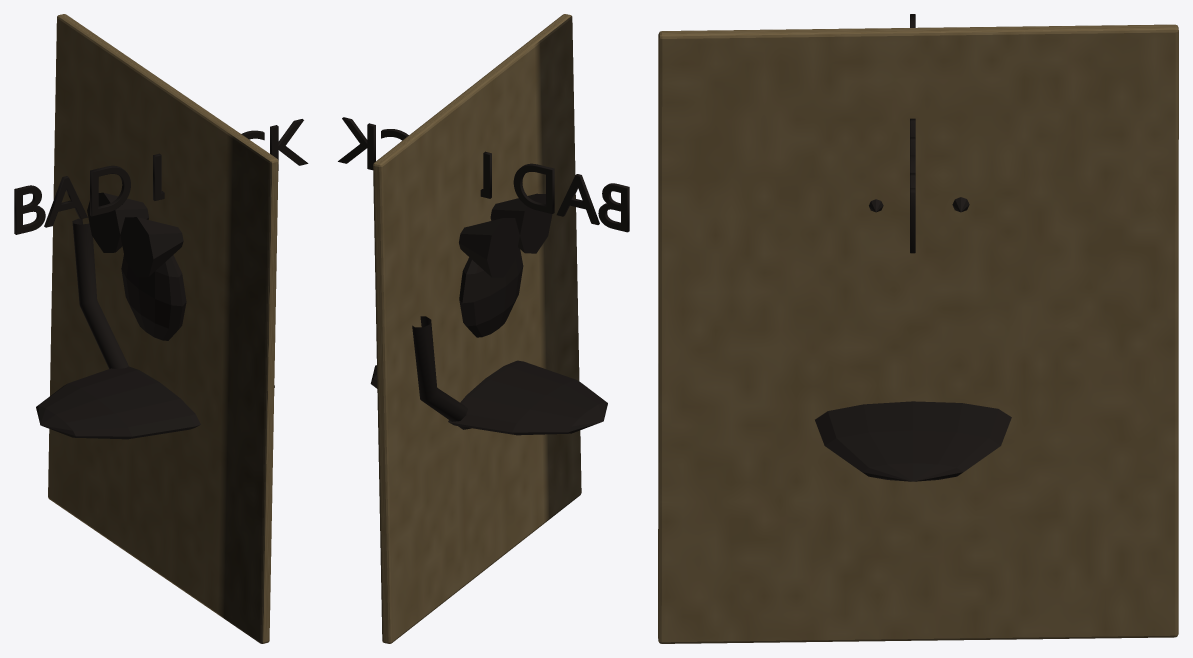
The model's file is basement-bad-luck-poster.glb.
3 views of the same model, side by side, from view 1: azimuth 30°, elevation 25°; view 2: azimuth 150°, elevation 25°; view 3: azimuth 270°, elevation 25° (orthographic). The views are drawn at different scales.
Visible parts, largest first — view 1: SM_Decal_PosterPaper, SM_lonely_basement_bad_luck_poster_Ink_PosterBlack; view 2: SM_Decal_PosterPaper, SM_lonely_basement_bad_luck_poster_Ink_PosterBlack; view 3: SM_Decal_PosterPaper, SM_lonely_basement_bad_luck_poster_Ink_PosterBlack.
Boxes of the visible parts, <box> form: SM_Decal_PosterPaper: <box>48,14,278,643</box>; SM_lonely_basement_bad_luck_poster_Ink_PosterBlack: <box>14,119,308,439</box>; SM_Decal_PosterPaper: <box>373,14,581,643</box>; SM_lonely_basement_bad_luck_poster_Ink_PosterBlack: <box>338,117,629,435</box>; SM_Decal_PosterPaper: <box>658,24,1178,643</box>; SM_lonely_basement_bad_luck_poster_Ink_PosterBlack: <box>815,14,1011,481</box>.
Size of the model in its own units: 0.7625 by 1.2 by 0.9207.
2 materials, 1 textured.
